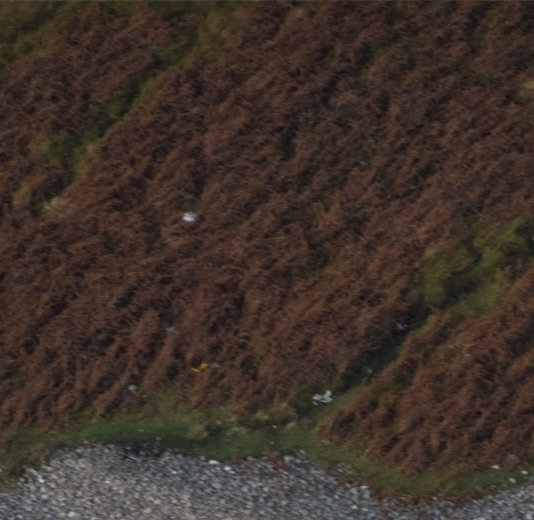scattered_barrel: (110, 197, 342, 415)
